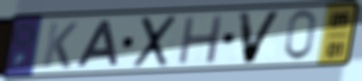0: (282, 8, 319, 64)
A: (73, 19, 121, 70)
H: (175, 13, 226, 67)
K: (40, 21, 80, 70)
V: (236, 9, 285, 66)
X: (130, 13, 180, 70)
